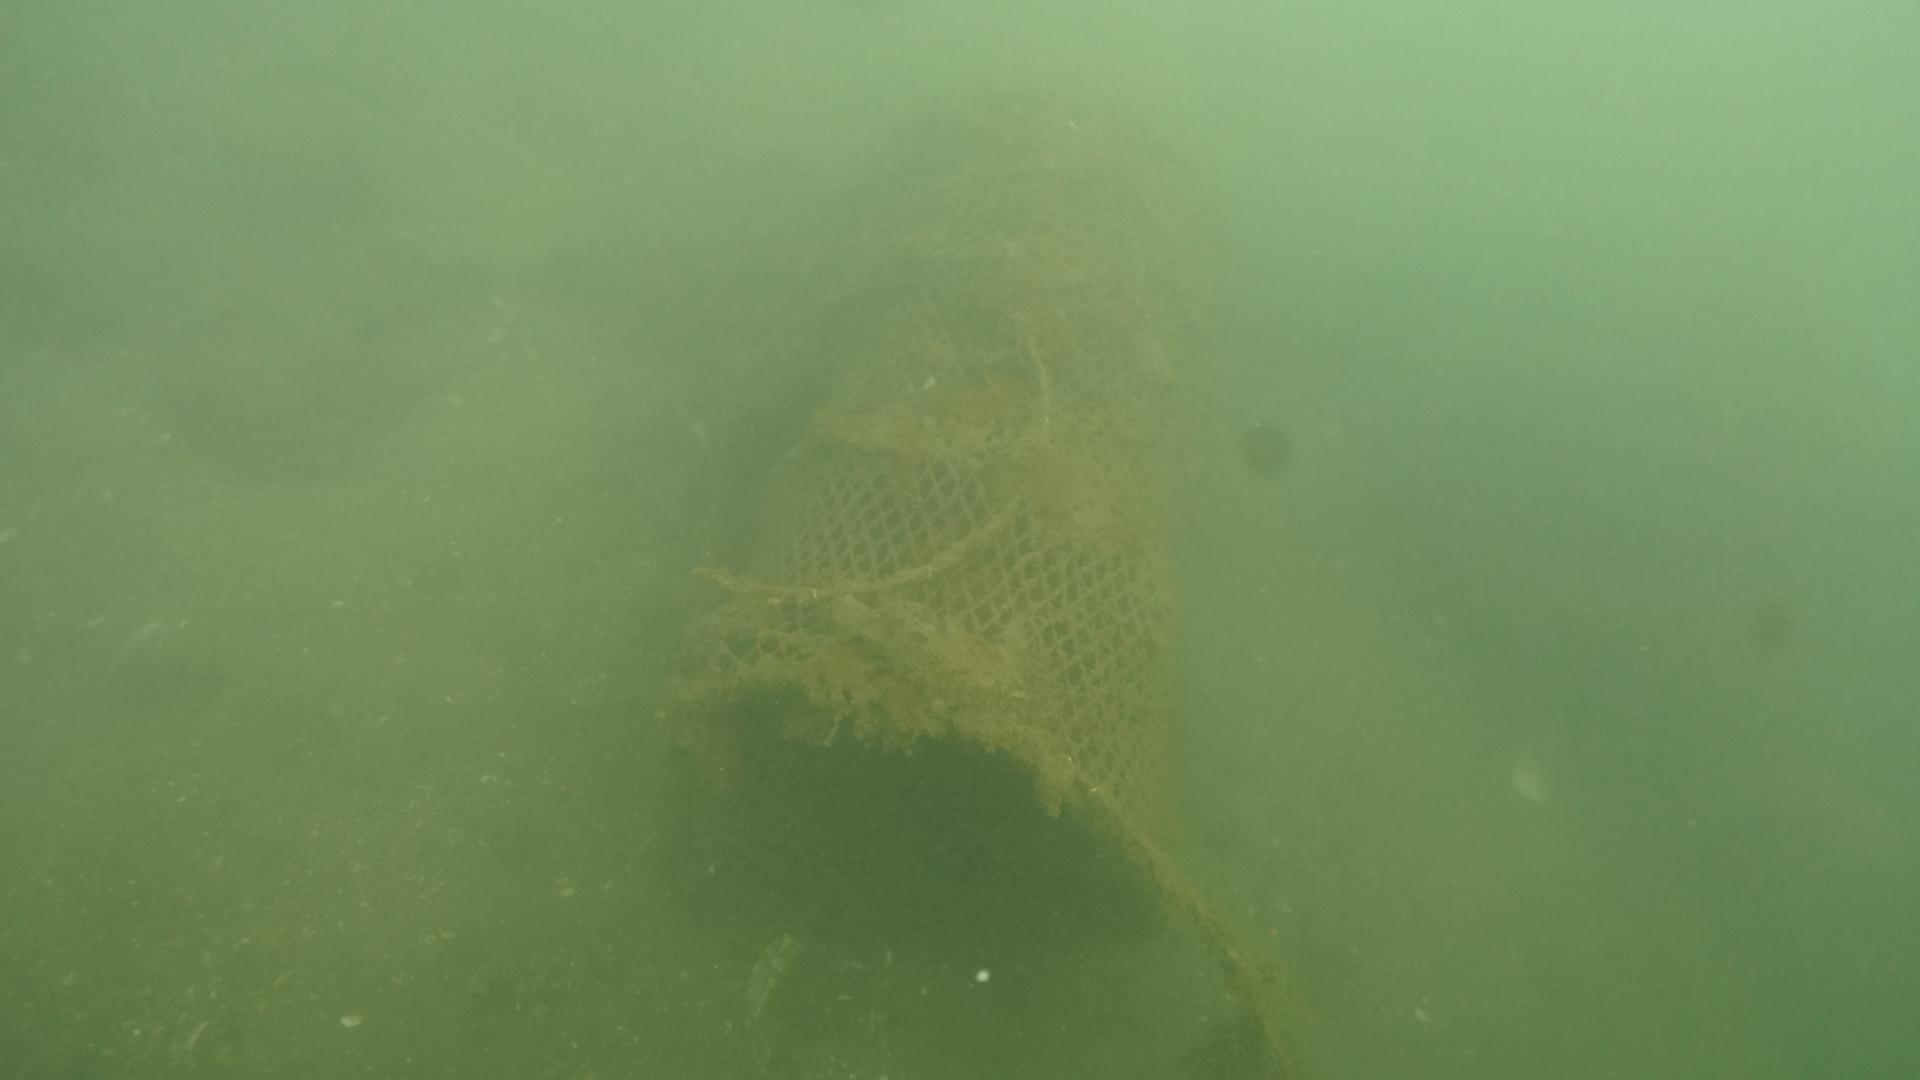spring fish trap: (669, 170, 1211, 920)
